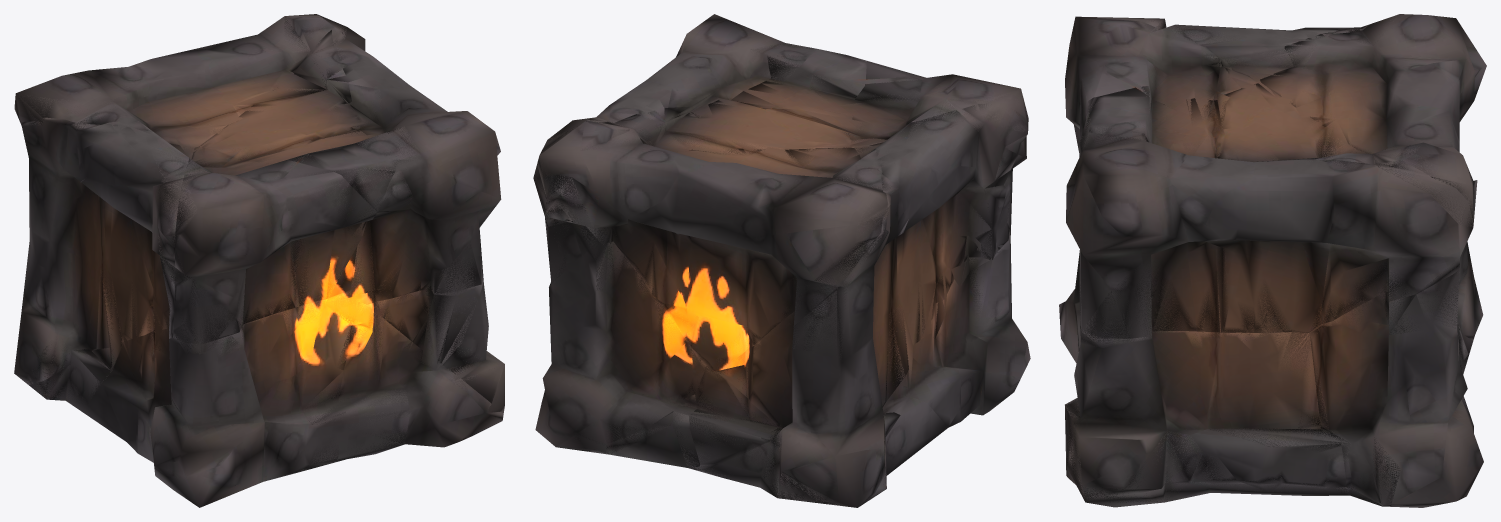
The model's file is fg_crate_metal-Dm6gKlrk.glb.
3 views of the same model, side by side, from view 1: azimuth 30°, elevation 25°; view 2: azimuth 150°, elevation 25°; view 3: azimuth 270°, elevation 25° (orthographic). The views are drawn at different scales.
Visible parts, largest first — view 1: frag_2, whole, frag_0, frag_5, frag_1, frag_6, frag_4, frag_7, frag_8; view 2: frag_6, frag_0, whole, frag_3, frag_2, frag_7, frag_1, frag_5, frag_4; view 3: frag_1, frag_8, whole, frag_3, frag_6, frag_7, frag_5, frag_0, frag_4, frag_2.
Part boxes in pixels (<box>): frag_2: <box>29,290,358,507</box>; whole: <box>15,14,504,471</box>; frag_0: <box>14,117,193,384</box>; frag_5: <box>173,146,376,344</box>; frag_1: <box>331,22,501,304</box>; frag_6: <box>14,14,332,147</box>; frag_4: <box>334,301,503,462</box>; frag_7: <box>199,30,396,211</box>; frag_8: <box>368,277,504,413</box>; frag_6: <box>537,121,887,372</box>; frag_0: <box>719,103,1028,507</box>; whole: <box>533,43,1027,507</box>; frag_3: <box>535,218,705,451</box>; frag_2: <box>689,230,1030,504</box>; frag_7: <box>594,47,866,149</box>; frag_1: <box>533,14,807,227</box>; frag_5: <box>850,61,1028,261</box>; frag_4: <box>587,394,700,470</box>; frag_1: <box>1066,132,1473,338</box>; frag_8: <box>1067,324,1346,495</box>; whole: <box>1065,15,1476,507</box>; frag_3: <box>1309,270,1483,507</box>; frag_6: <box>1260,14,1486,221</box>; frag_7: <box>1084,83,1397,164</box>; frag_5: <box>1065,16,1260,157</box>; frag_0: <box>1142,18,1483,340</box>; frag_4: <box>1065,398,1387,507</box>; frag_2: <box>1059,250,1473,374</box>.
Size of the model in its own units: 1.65 by 1.45 by 1.62.
Materials: 1 (1 with a texture image).
